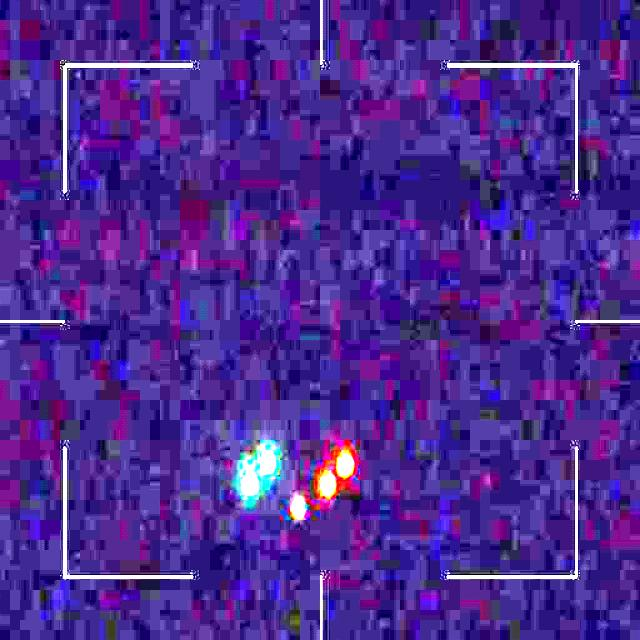bird: (239, 440, 352, 519)
